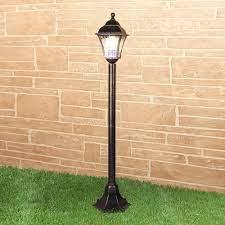Animal: (86, 13, 146, 206)
